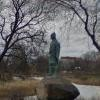Statue: (34, 24, 72, 72)
